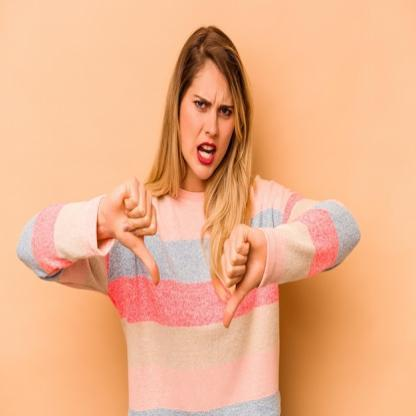thumb_down: (105, 174, 162, 286), (218, 220, 270, 330)
